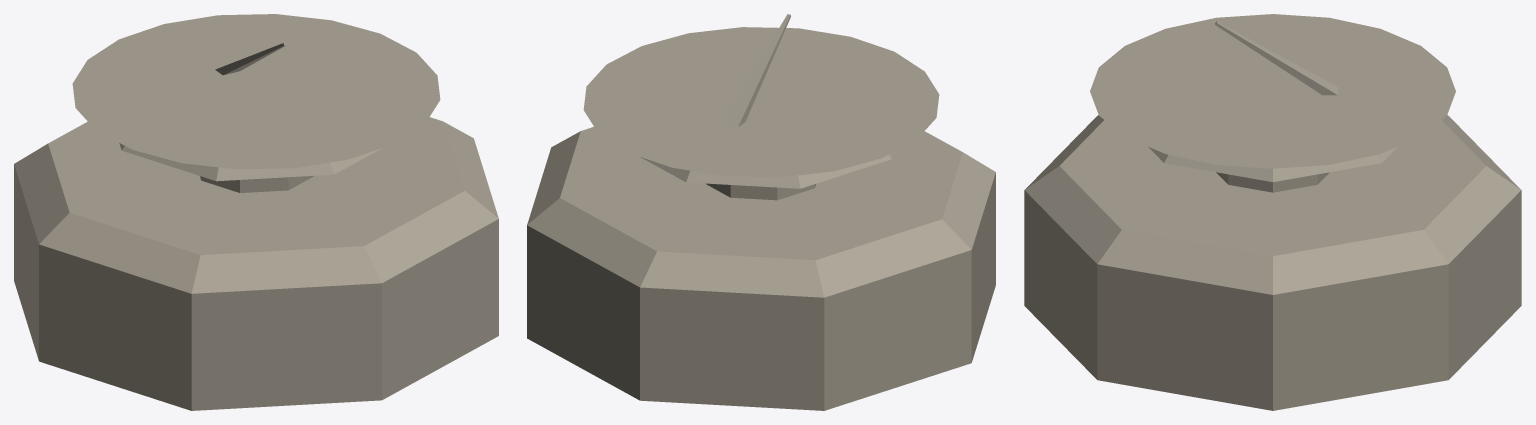
Rendered from sundial-compressed.glb.
3 renders of one model, left to right at view 1: azimuth 30°, elevation 25°; view 2: azimuth 150°, elevation 25°; view 3: azimuth 270°, elevation 25°, orthographic. The views are drawn at different scales.
Visible parts, largest first — view 1: sundial; view 2: sundial; view 3: sundial.
Boxes of the visible parts, left/top/right/bottom form: sundial: left=14, top=14, right=498, bottom=410; sundial: left=527, top=14, right=995, bottom=410; sundial: left=1024, top=14, right=1521, bottom=410.
Size of the model in its own units: 1.43 by 0.9 by 1.43.
